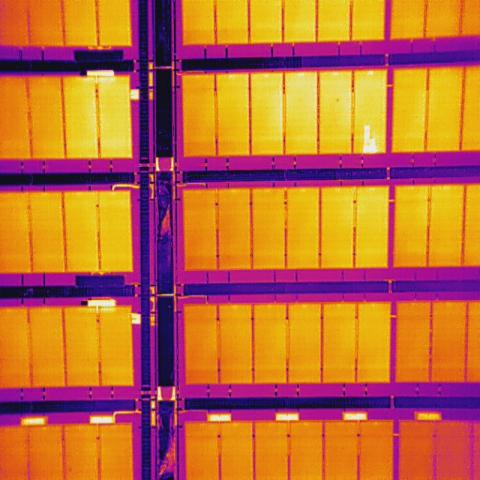fault: (362, 124, 377, 154)
